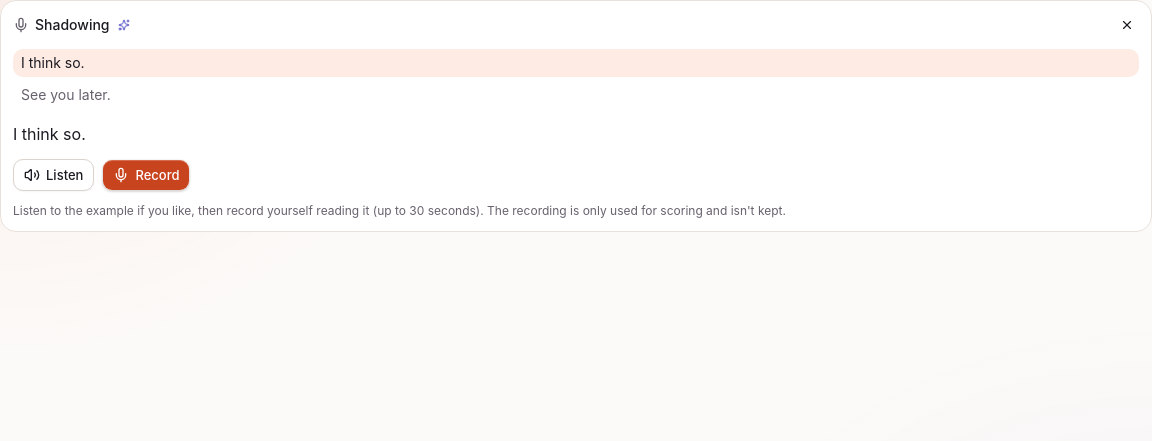
it: ShadowingPanel › opens a word: its score, and that British English has no phonetic symbols
What coordinates should you click on to do the following:
click the button with test id "shadowing-record"
I would click on:
 (146, 175)
Its box is [102,159,190,191].
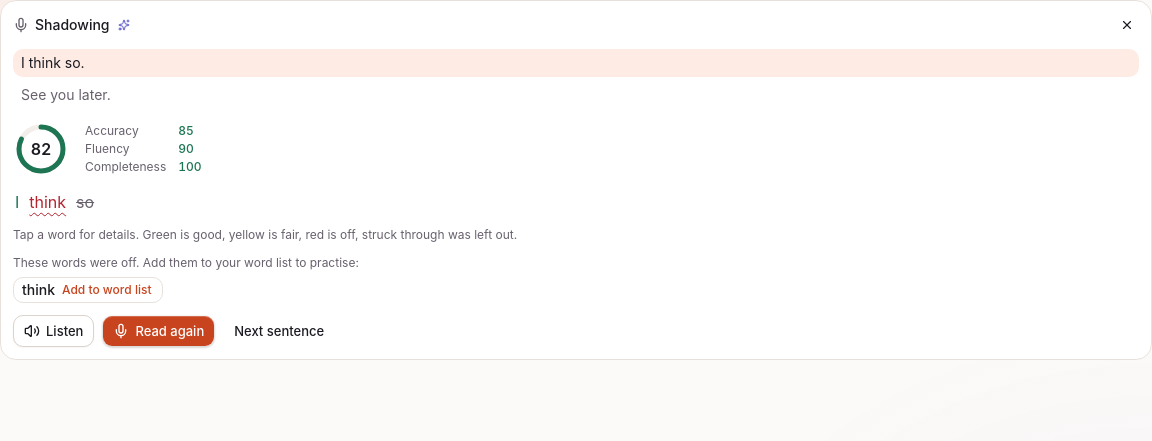
What coordinates should you click on to do the following:
click the button "think"
I would click on:
 (48, 202)
Its box is [27,189,68,215].
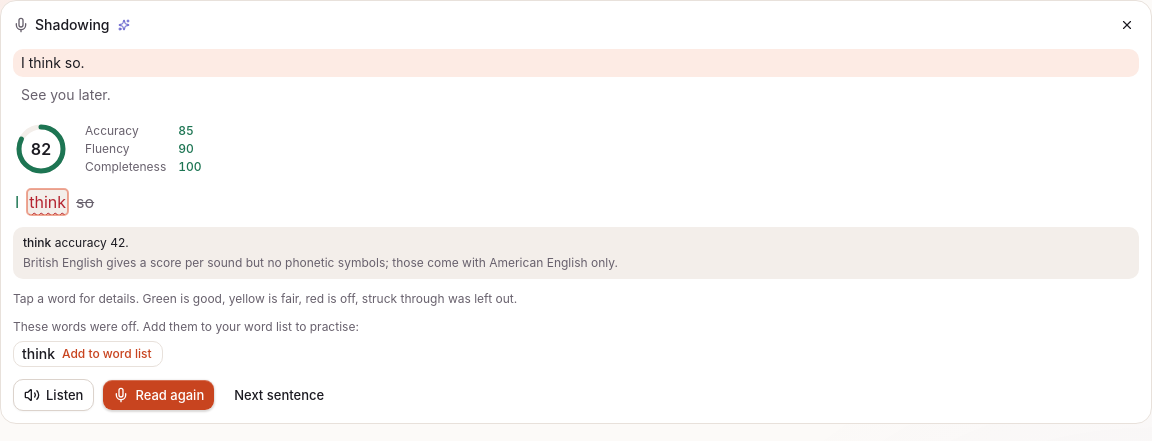
Expected: the element with test id "shadowing-word-detail" shows "accuracy 42", [55,235,129,250]
Expected: the element with test id "shadowing-word-detail" shows "no phonetic symbols", [23,255,618,270]
